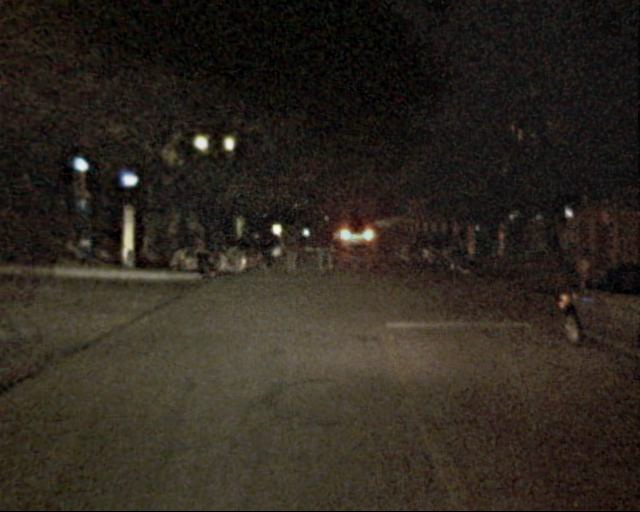person: (190, 218, 217, 282), (315, 222, 336, 278), (277, 222, 299, 274), (253, 219, 275, 269)
